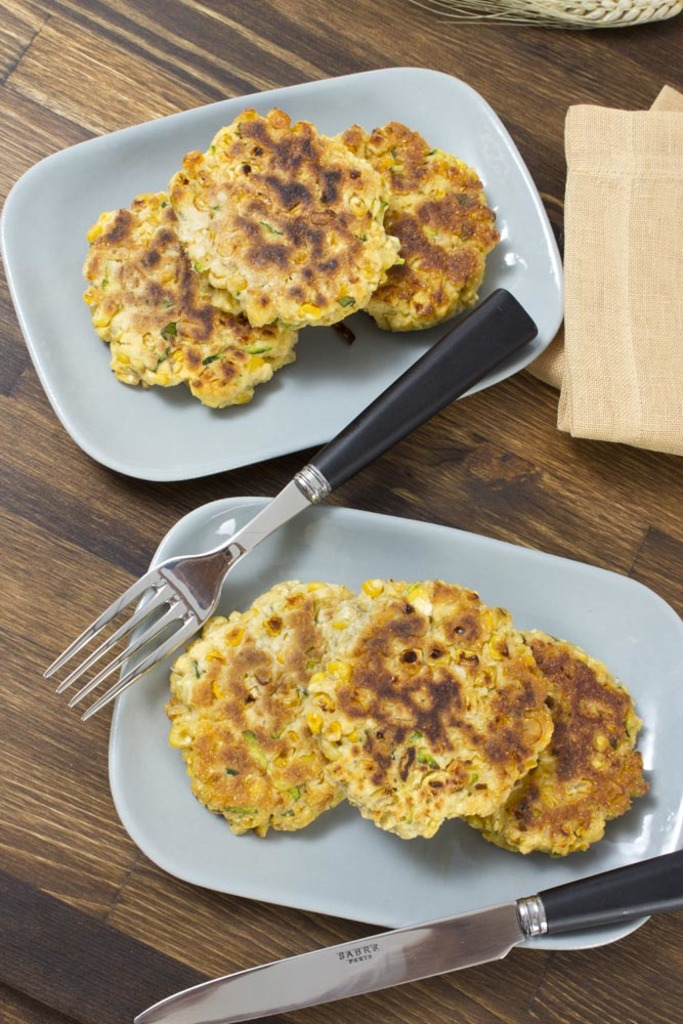kitchen knife: (133, 848, 682, 1023)
